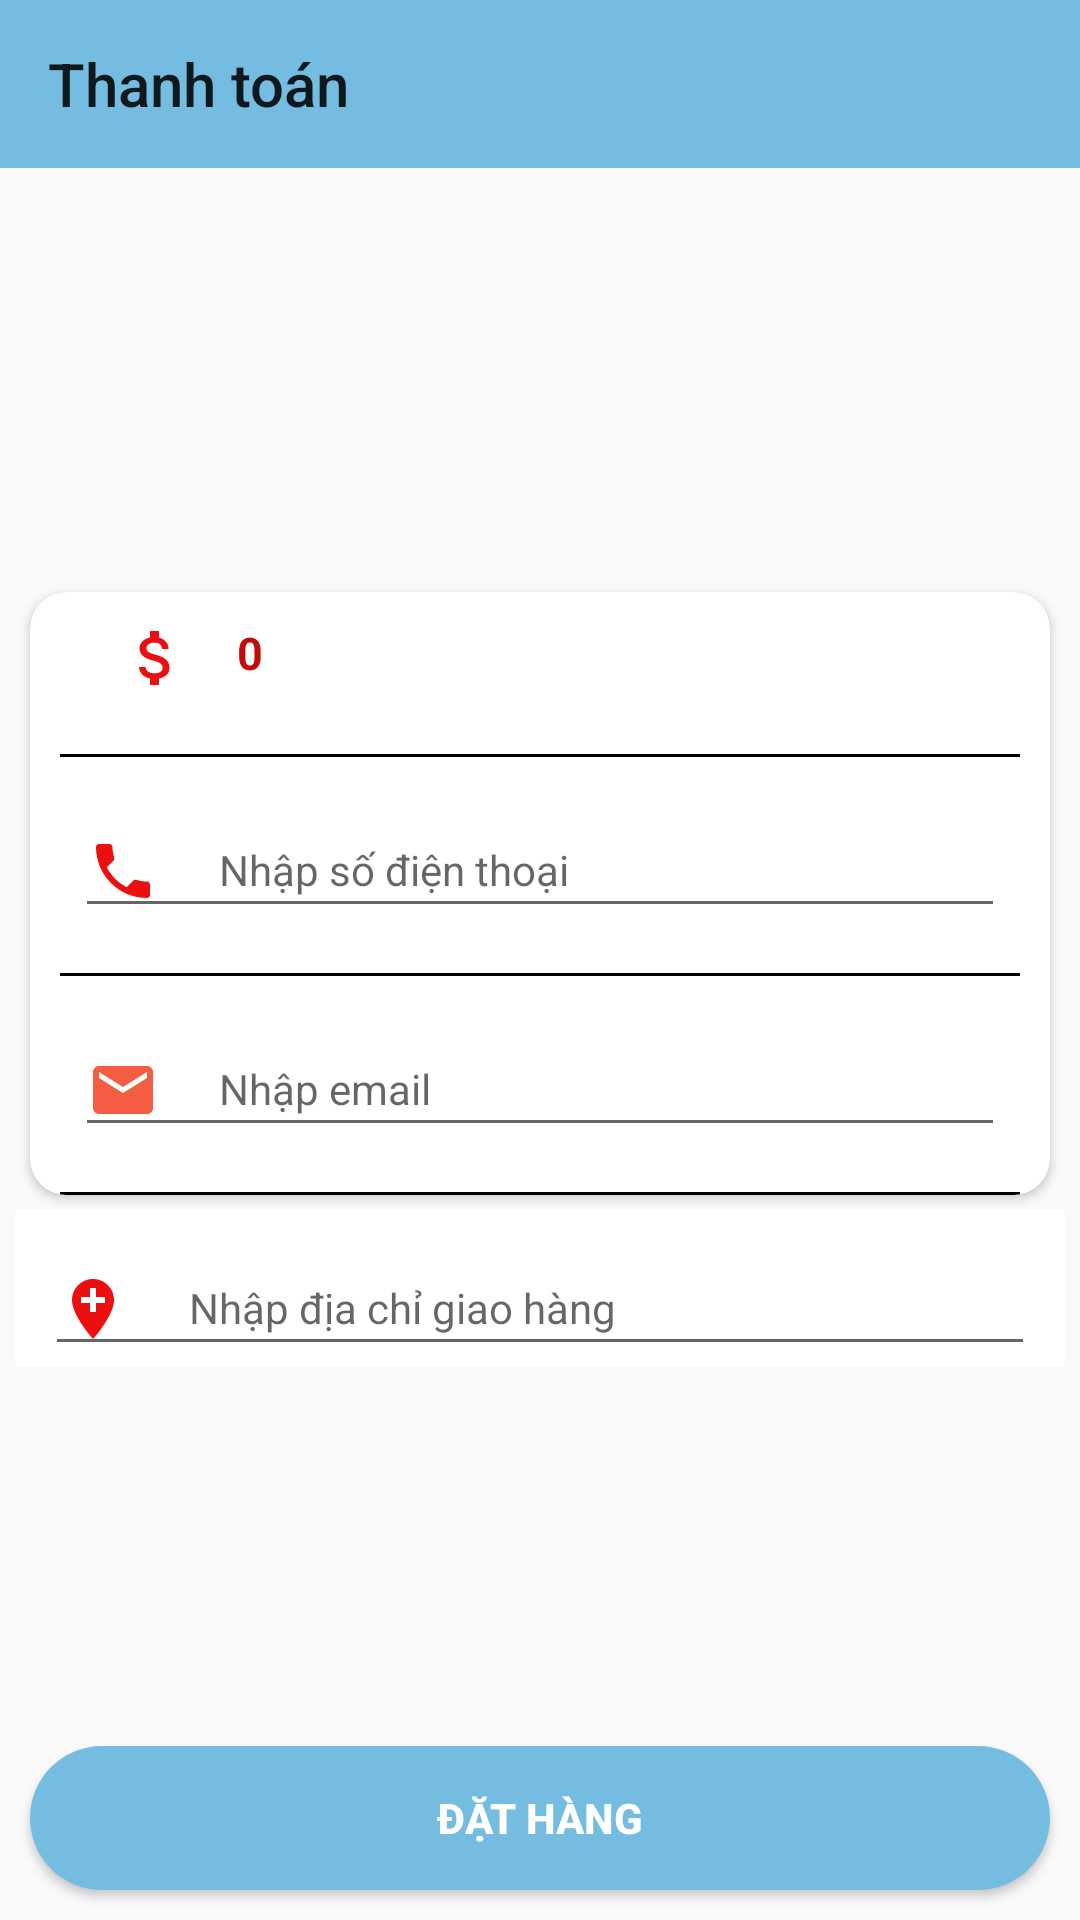

Icons on this 1080 × 1920 Android screen, each with the point to tap as (x=x, y=y):
money: (x=154, y=658)
